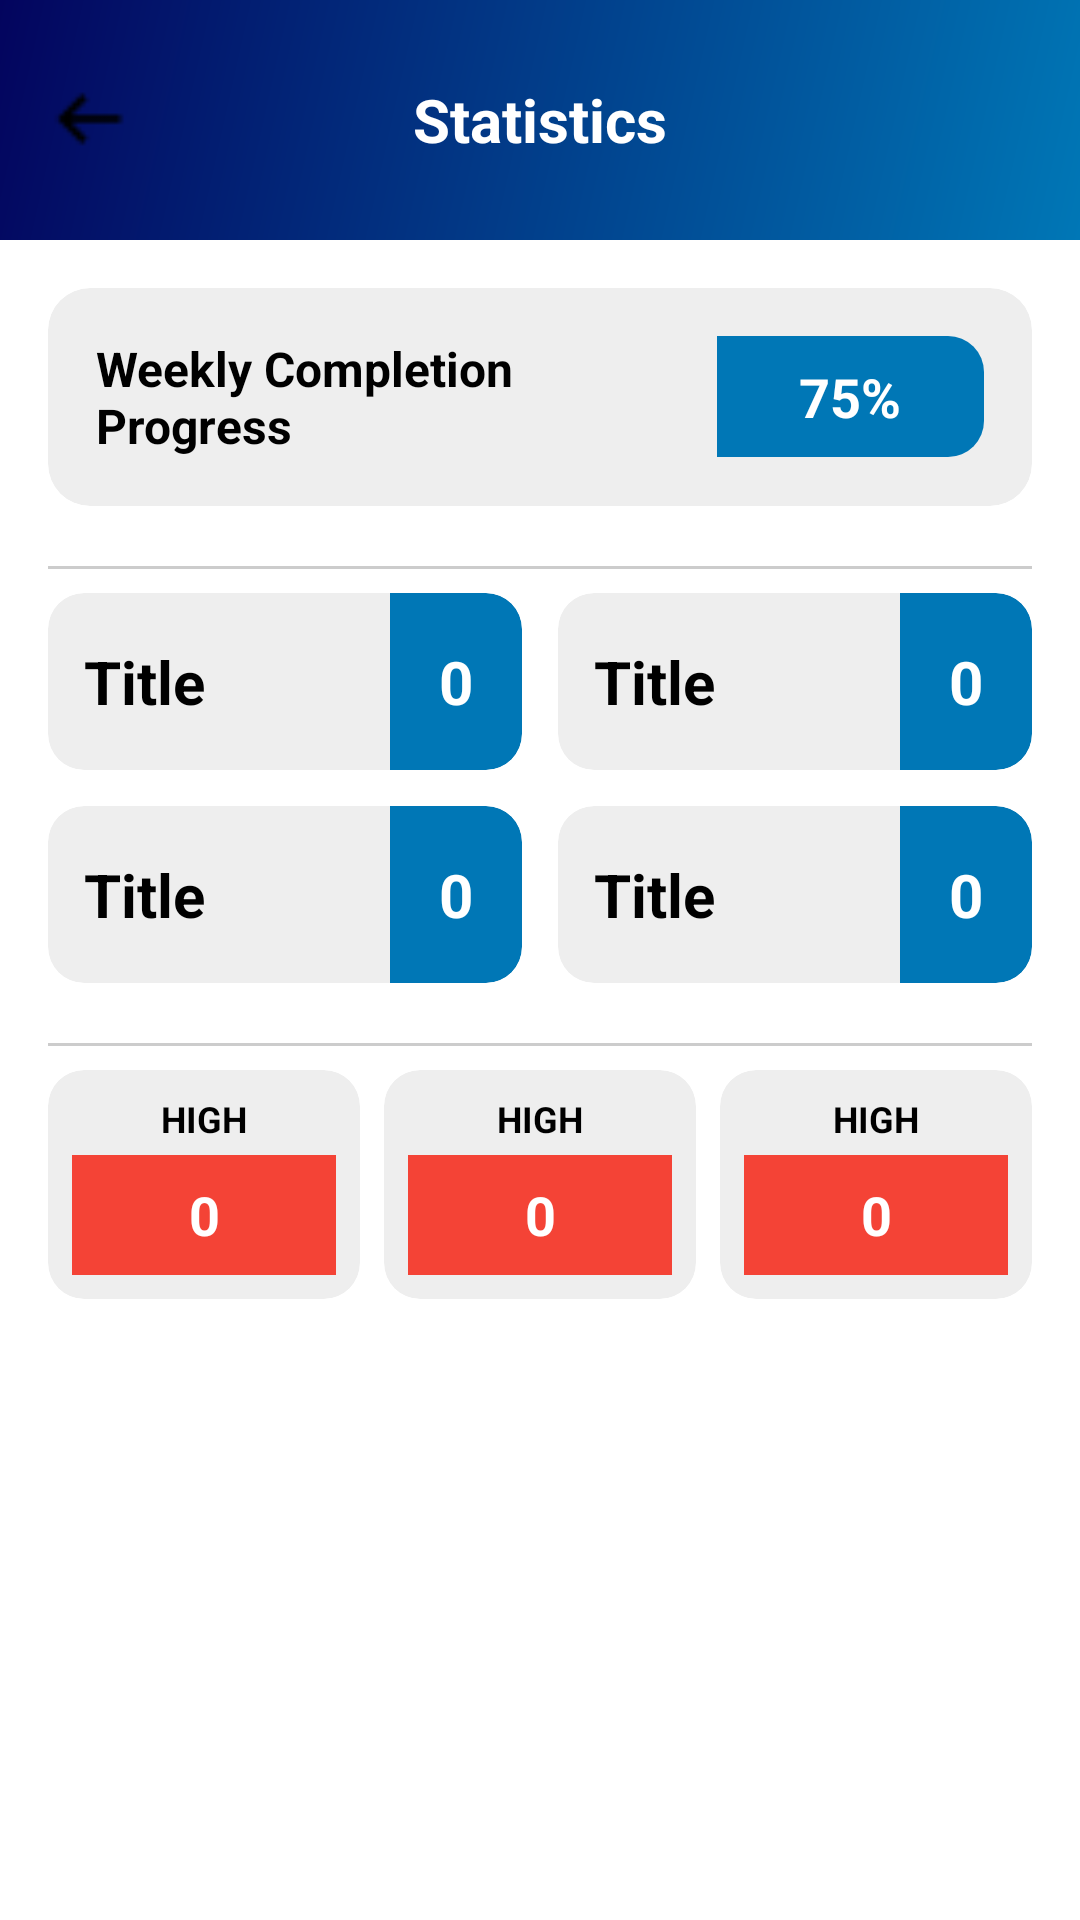

Named icons in this screenshot (1080px×1920px) and their bounding boxes, (x1, y1, x2, y2):
Back: (58, 93, 122, 144)
